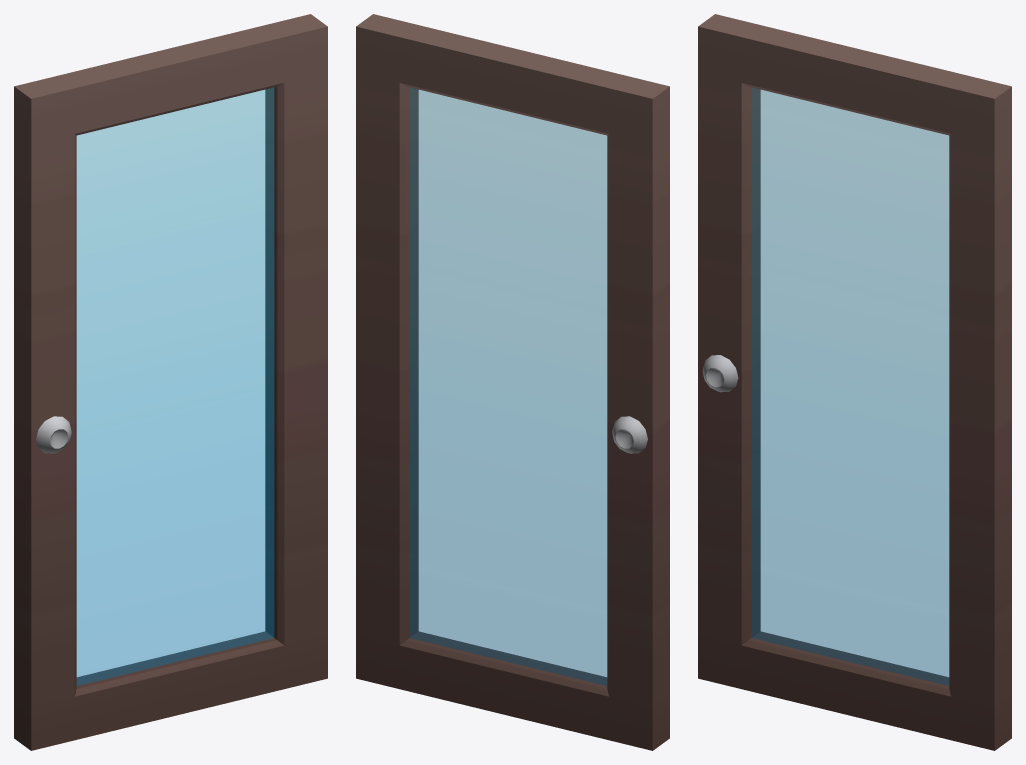
Rendered from Door_Brown_05.glb.
3 renders of one model, left to right at view 1: azimuth 30°, elevation 25°; view 2: azimuth 150°, elevation 25°; view 3: azimuth 330°, elevation 25°, orthographic.
Parts seen in each view (by area): view 1: Door_Brown_05; view 2: Door_Brown_05; view 3: Door_Brown_05.
Part boxes in pixels (left/top/right/bottom): Door_Brown_05: left=14, top=14, right=327, bottom=750; Door_Brown_05: left=356, top=14, right=669, bottom=750; Door_Brown_05: left=698, top=14, right=1011, bottom=750.
Size of the model in its own units: 1 by 2.1 by 0.1634.
Materials: 2 (2 with a texture image).
